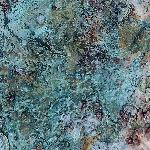dead: (8, 5, 148, 146)
